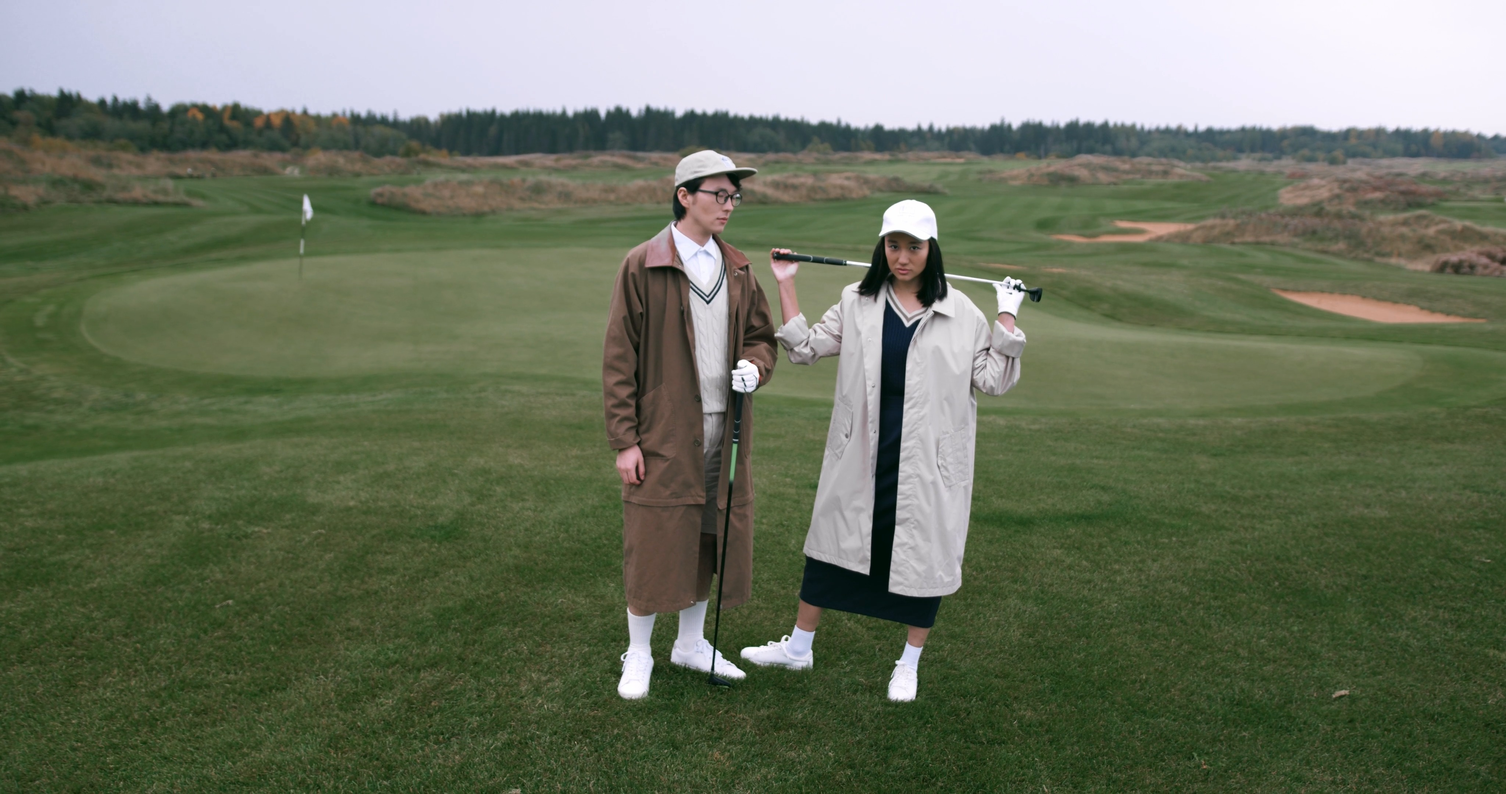No-gloves: (763, 237, 818, 296), (609, 434, 650, 502)
gloves: (719, 353, 774, 407), (987, 270, 1035, 323)
